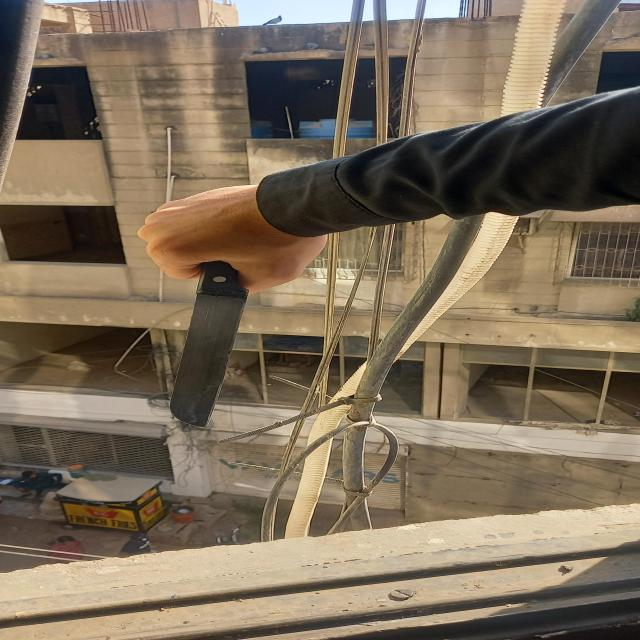Knife: (168, 260, 248, 427)
Person: (137, 86, 640, 294)
